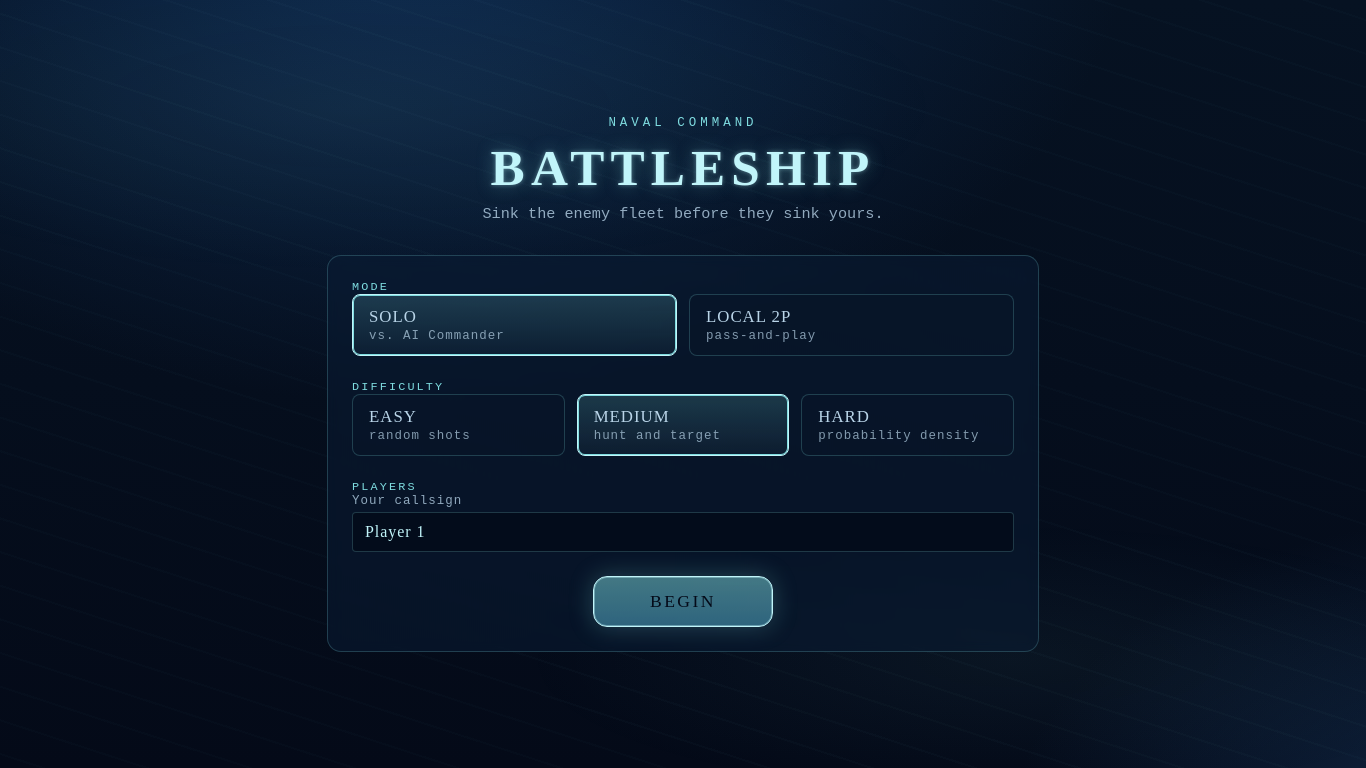
Test case: PlacementScreen integration (CP2) › Randomize fills all 5 ships with legal placements (#33)
Step 1. Click the button with aria-label "begin placement" → (683, 602), box [593,576,773,627]
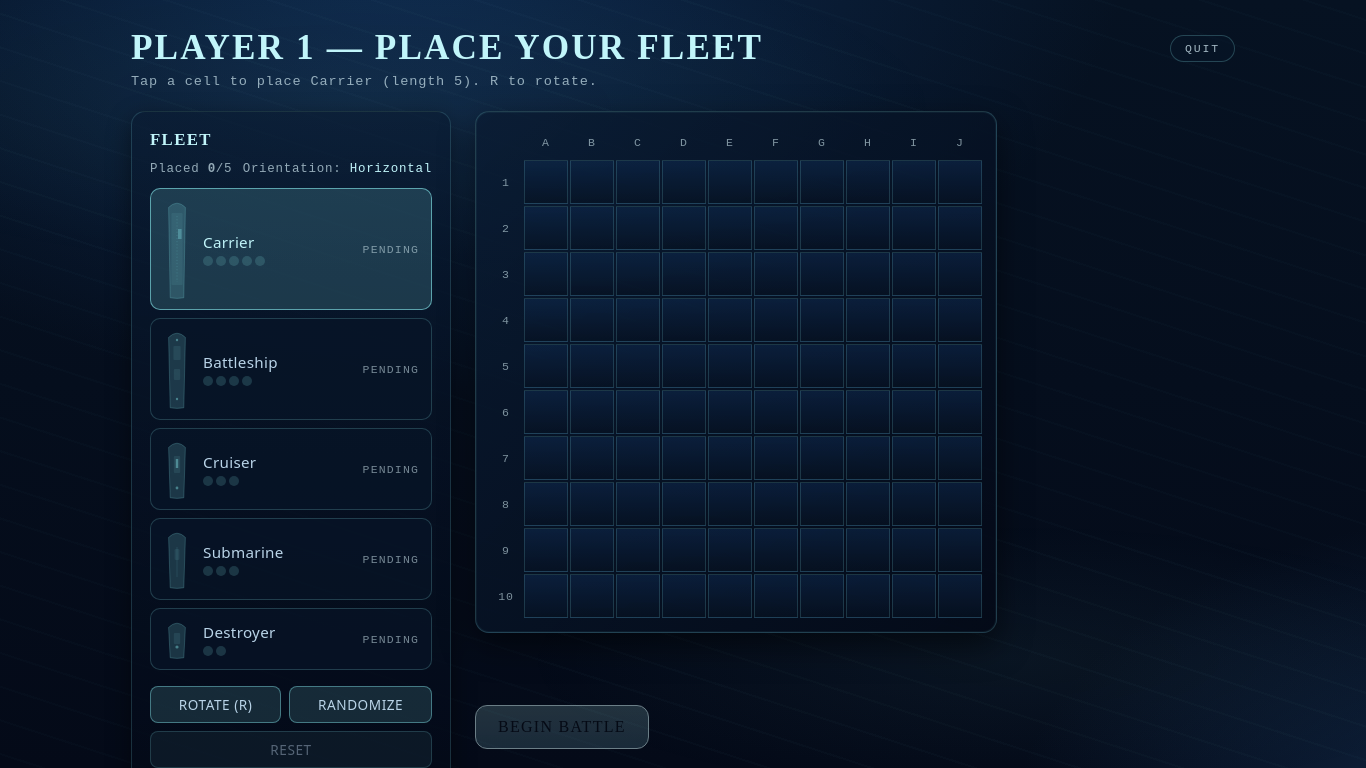
Step 2. Click the button with aria-label "randomize fleet" → (361, 704), box [289,686,432,723]
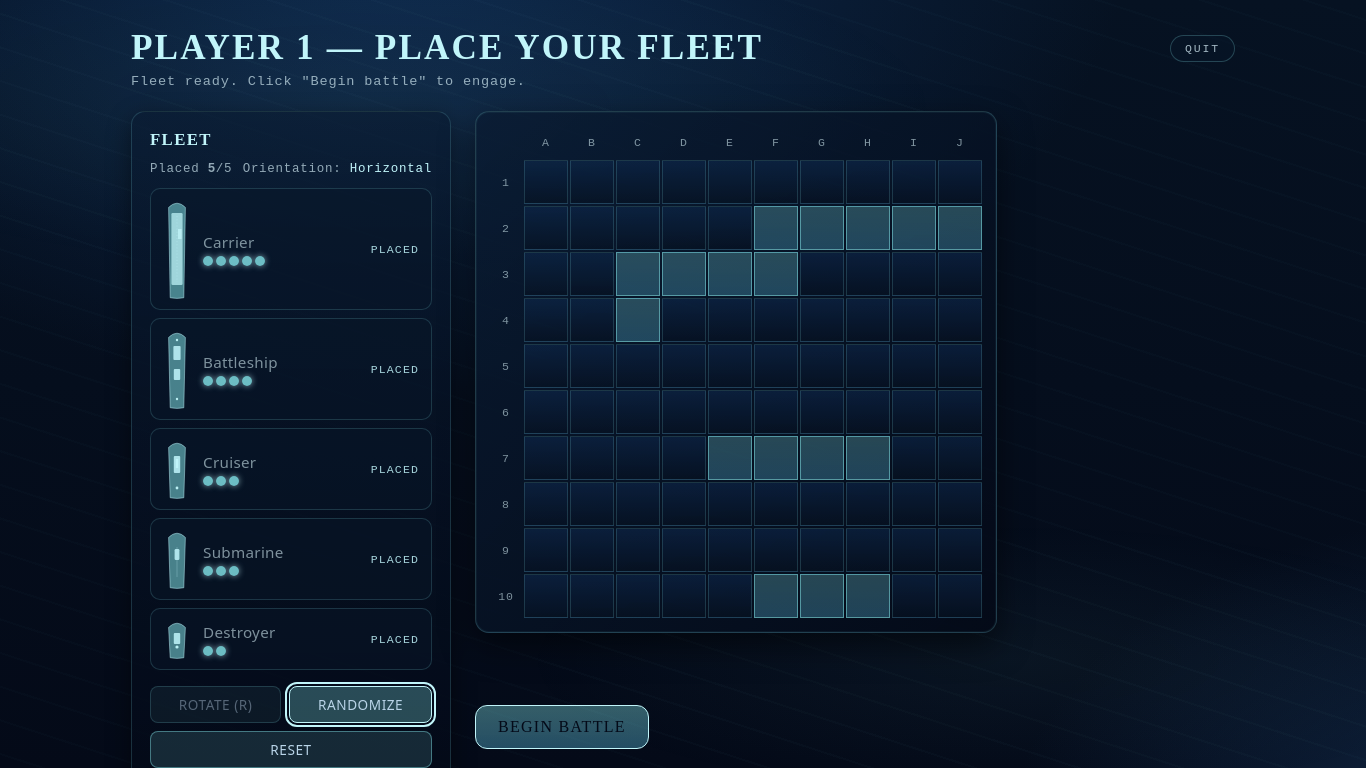
Expected: the button "Begin battle" is enabled, [475,704,649,748]
